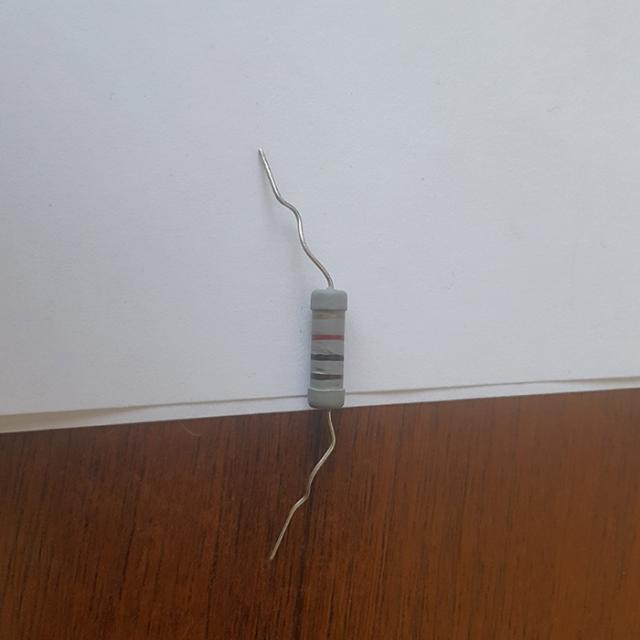black: (314, 355, 341, 361)
brown: (313, 374, 341, 379)
gold: (314, 313, 343, 318)
red: (314, 333, 342, 342)
resistor: (300, 285, 359, 409)
